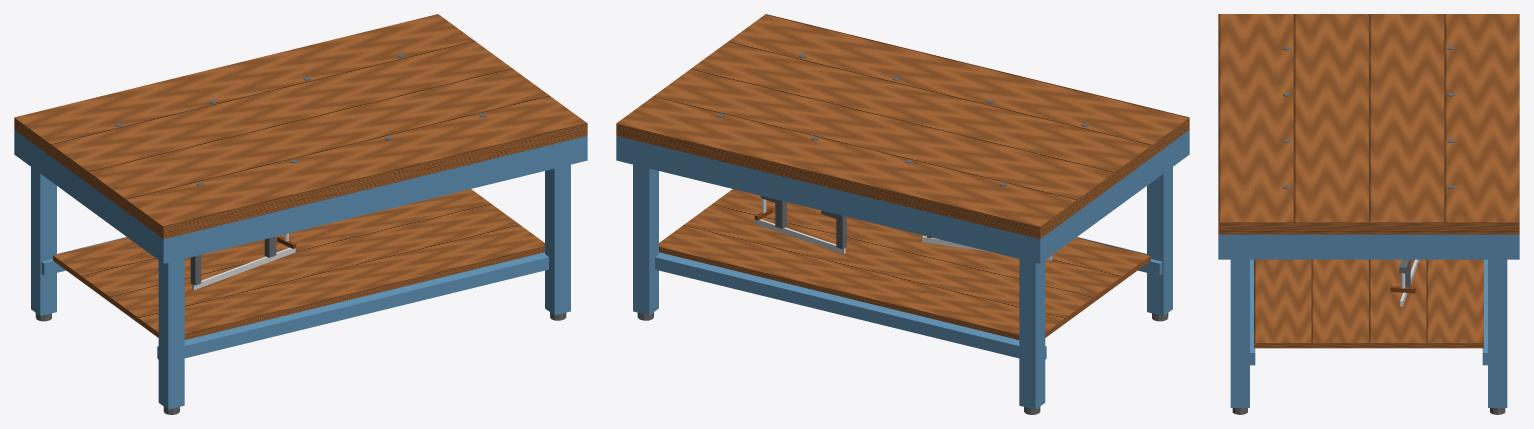
File: woodworking-workshop-and-joinery-woodworking-workshop--09eae188.glb
3 renders of one model, left to right at view 1: azimuth 30°, elevation 25°; view 2: azimuth 150°, elevation 25°; view 3: azimuth 270°, elevation 25°, orthographic.
Parts seen in each view (by area): view 1: woodworking-workshop-and-joinery-assembly-table; view 2: woodworking-workshop-and-joinery-assembly-table; view 3: woodworking-workshop-and-joinery-assembly-table.
Part boxes in pixels (x1=…): woodworking-workshop-and-joinery-assembly-table: x1=14, y1=14, x2=587, y2=414; woodworking-workshop-and-joinery-assembly-table: x1=616, y1=14, x2=1189, y2=414; woodworking-workshop-and-joinery-assembly-table: x1=1218, y1=14, x2=1519, y2=414.
Size of the model in its own units: 1.8 by 0.803 by 1.1.
5 materials, 2 textured.
